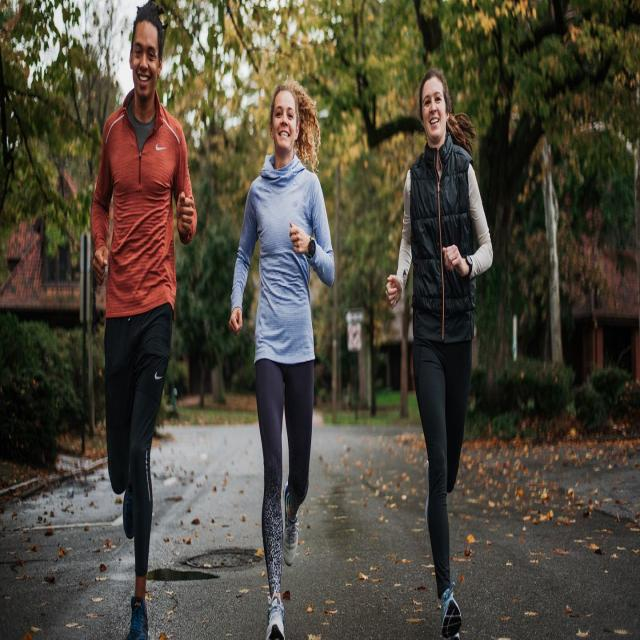Person: (91, 1, 197, 640), (385, 69, 492, 640), (230, 81, 336, 640)
